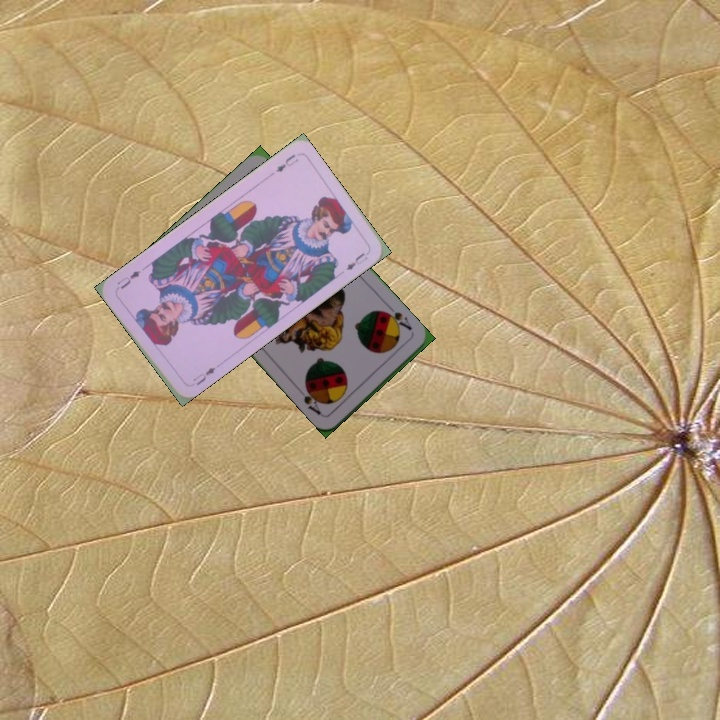EU: (189, 361, 221, 388), (271, 150, 301, 175)
SA: (381, 303, 415, 333)
